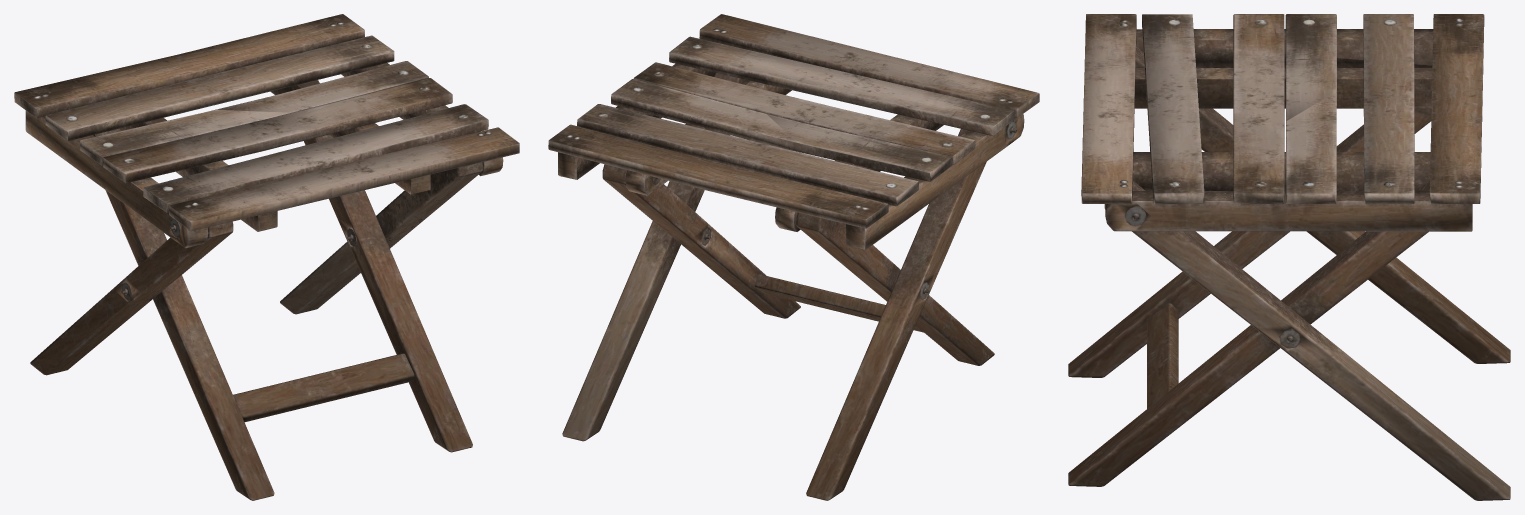
File: folding_wooden_stool.glb
3 renders of one model, left to right at view 1: azimuth 30°, elevation 25°; view 2: azimuth 150°, elevation 25°; view 3: azimuth 270°, elevation 25°, orthographic. The views are drawn at different scales.
Parts seen in each view (by area): view 1: folding_wooden_stool; view 2: folding_wooden_stool; view 3: folding_wooden_stool.
Part boxes in pixels (x1,y1,x2,y2): folding_wooden_stool: (14, 14, 519, 500); folding_wooden_stool: (548, 14, 1039, 500); folding_wooden_stool: (1068, 14, 1510, 500).
Size of the model in its own units: 0.527 by 0.442 by 0.5471.
1 material, 1 textured.
